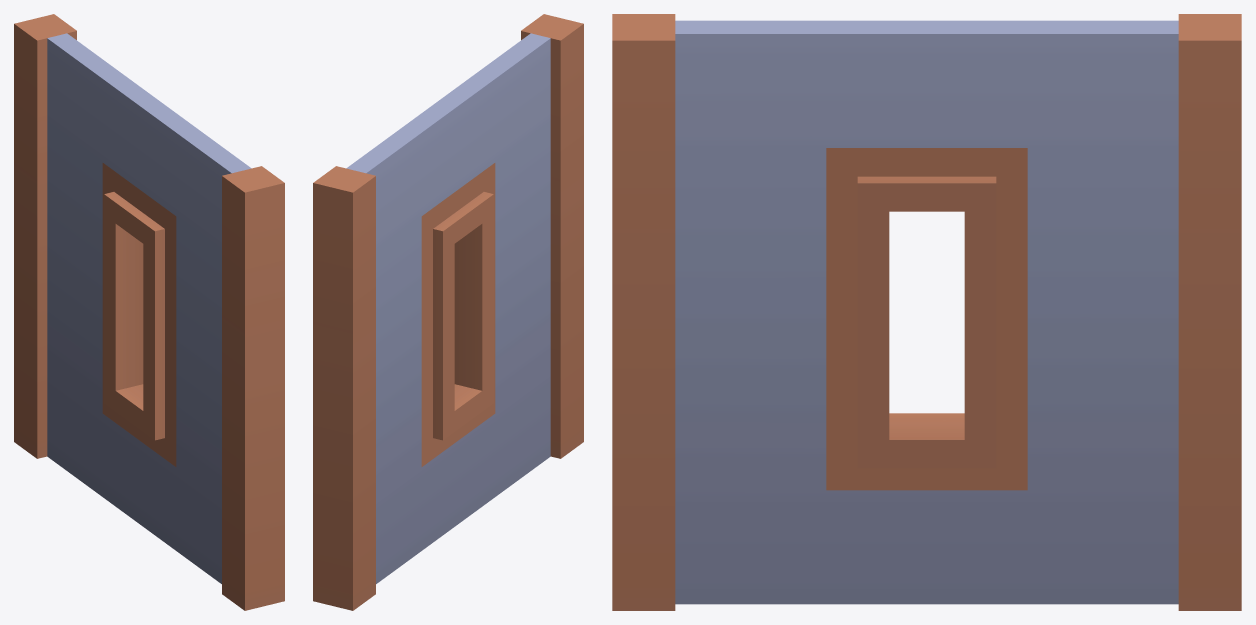
Rendered from wall-window-small.glb.
3 views of the same model, side by side, from view 1: azimuth 30°, elevation 25°; view 2: azimuth 150°, elevation 25°; view 3: azimuth 270°, elevation 25° (orthographic). The views are drawn at different scales.
Parts seen in each view (by area): view 1: wall-window-small; view 2: wall-window-small; view 3: wall-window-small.
Boxes of the visible parts, x1,y1,x2,y2 form: wall-window-small: (14, 14, 284, 610); wall-window-small: (313, 14, 583, 610); wall-window-small: (612, 14, 1241, 610).
Size of the model in its own units: 0.1 by 1 by 1.
1 material, 1 textured.
